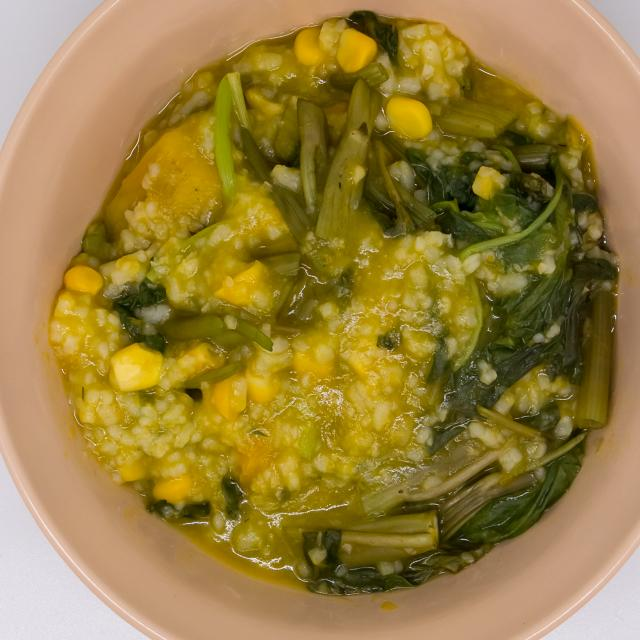Bubur-Manado: (53, 4, 622, 612)
